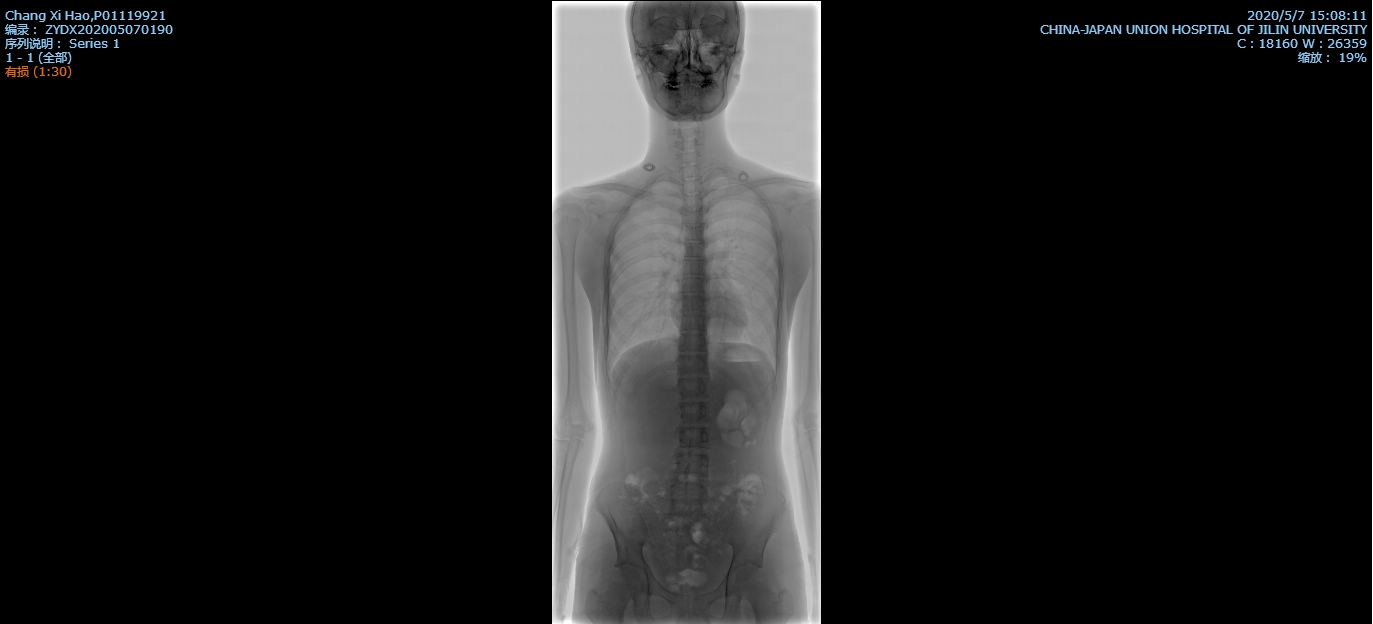Bone: (672, 453, 708, 473), (672, 481, 707, 499), (677, 355, 707, 375), (678, 380, 708, 399), (677, 428, 706, 446), (678, 404, 707, 421), (679, 334, 705, 350), (680, 314, 704, 329), (681, 260, 703, 275), (682, 225, 704, 240), (681, 297, 703, 310), (683, 242, 704, 255), (683, 279, 702, 293), (678, 152, 698, 163), (684, 196, 702, 208), (683, 180, 701, 192), (682, 166, 699, 178), (683, 212, 703, 222), (678, 140, 696, 150)
